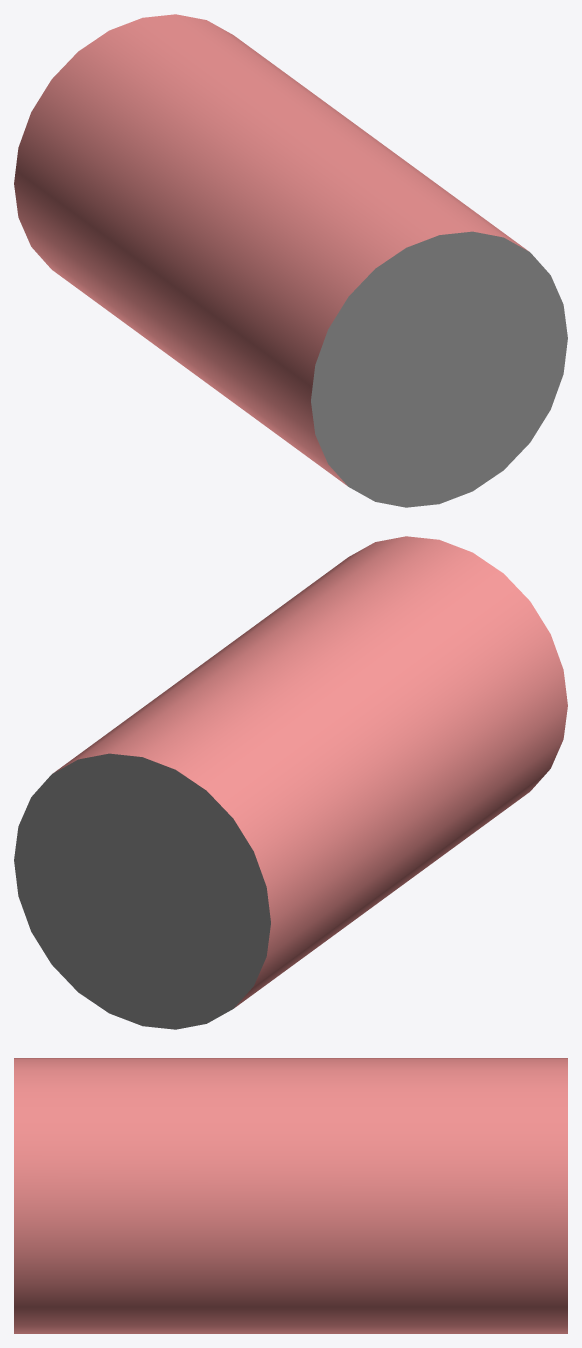
The model's file is S_Envi_Common_Pipe_01b.gltf.
3 renders of one model, top to bottom at view 1: azimuth 30°, elevation 25°; view 2: azimuth 150°, elevation 25°; view 3: azimuth 270°, elevation 25°, orthographic. The views are drawn at different scales.
Parts seen in each view (by area): view 1: S_Envi_Common_Pipe_01b; view 2: S_Envi_Common_Pipe_01b; view 3: S_Envi_Common_Pipe_01b.
Part boxes in pixels (bbox=[...]): S_Envi_Common_Pipe_01b: bbox=[14, 14, 567, 507]; S_Envi_Common_Pipe_01b: bbox=[14, 536, 567, 1029]; S_Envi_Common_Pipe_01b: bbox=[14, 1058, 567, 1333].
Bounding box in the file's own units: 1 × 1 × 2.
